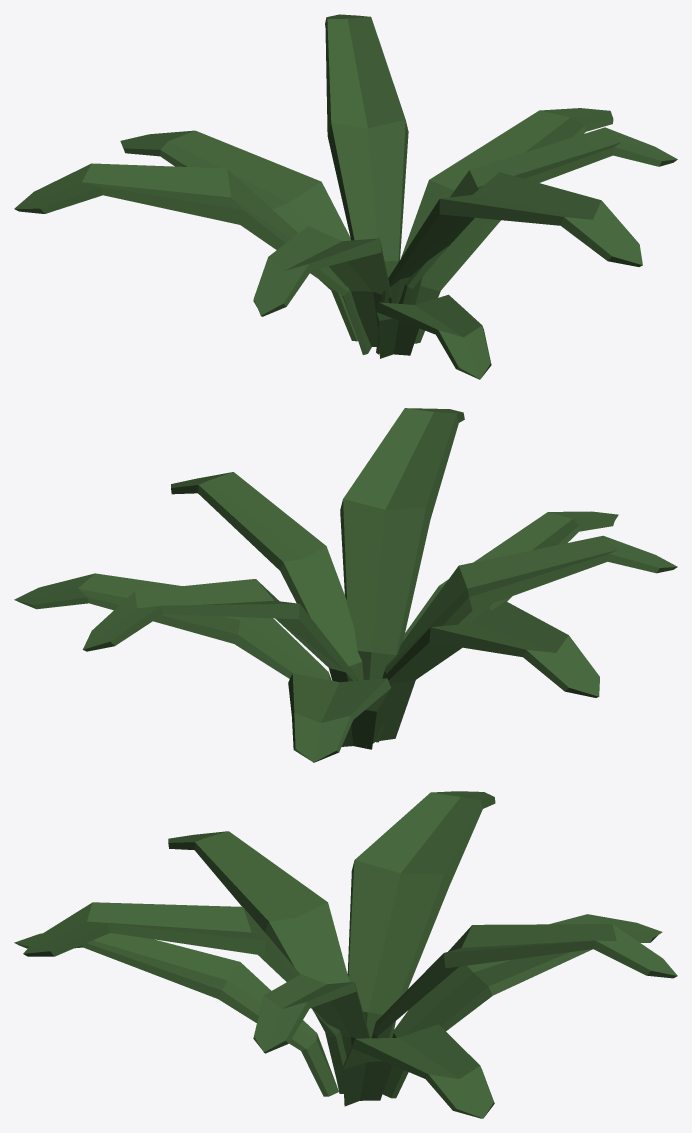
Rendered from plant.glb.
3 renders of one model, top to bottom at view 1: azimuth 30°, elevation 25°; view 2: azimuth 150°, elevation 25°; view 3: azimuth 270°, elevation 25°, orthographic. The views are drawn at different scales.
Visible parts, largest first — view 1: SM_Env_Plant_01; view 2: SM_Env_Plant_01; view 3: SM_Env_Plant_01.
Part boxes in pixels (x1=…): SM_Env_Plant_01: x1=14, y1=14, x2=677, y2=379; SM_Env_Plant_01: x1=14, y1=408, x2=677, y2=762; SM_Env_Plant_01: x1=14, y1=791, x2=677, y2=1118.
Bounding box in the file's own units: 1.37 × 0.479 × 1.37.
Materials: 1 (1 with a texture image).
